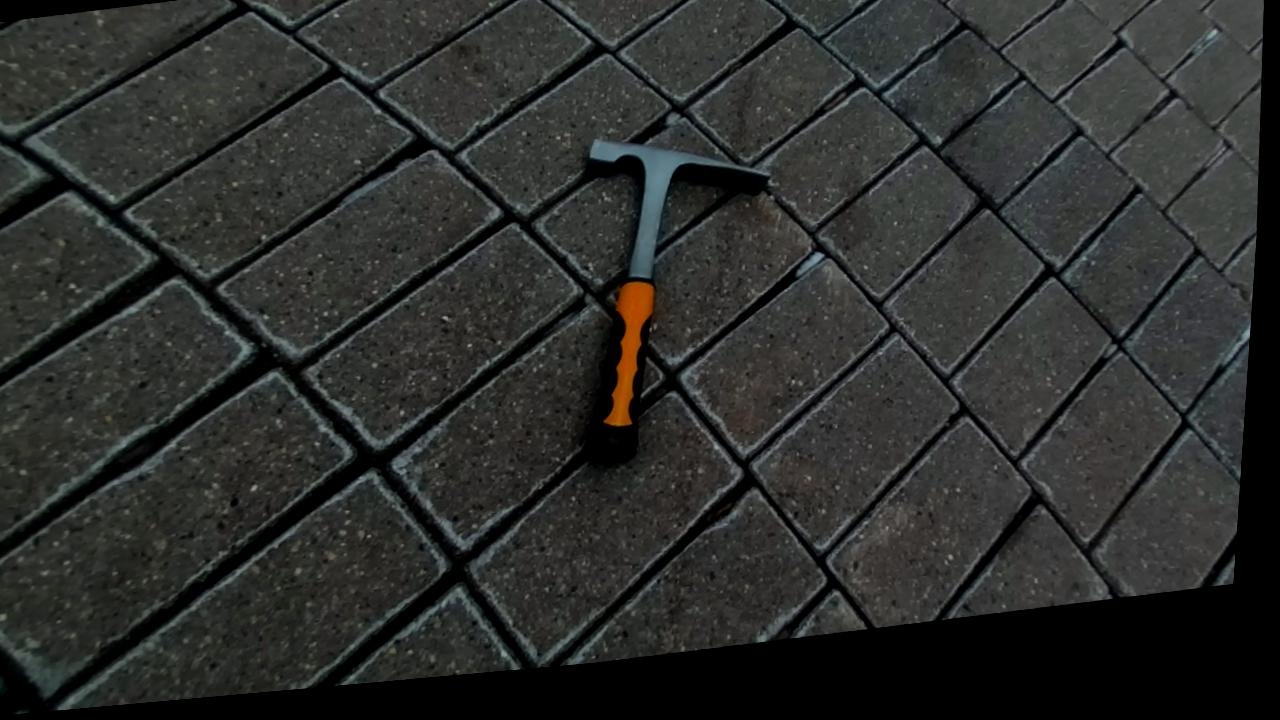pick: (582, 139, 769, 460)
